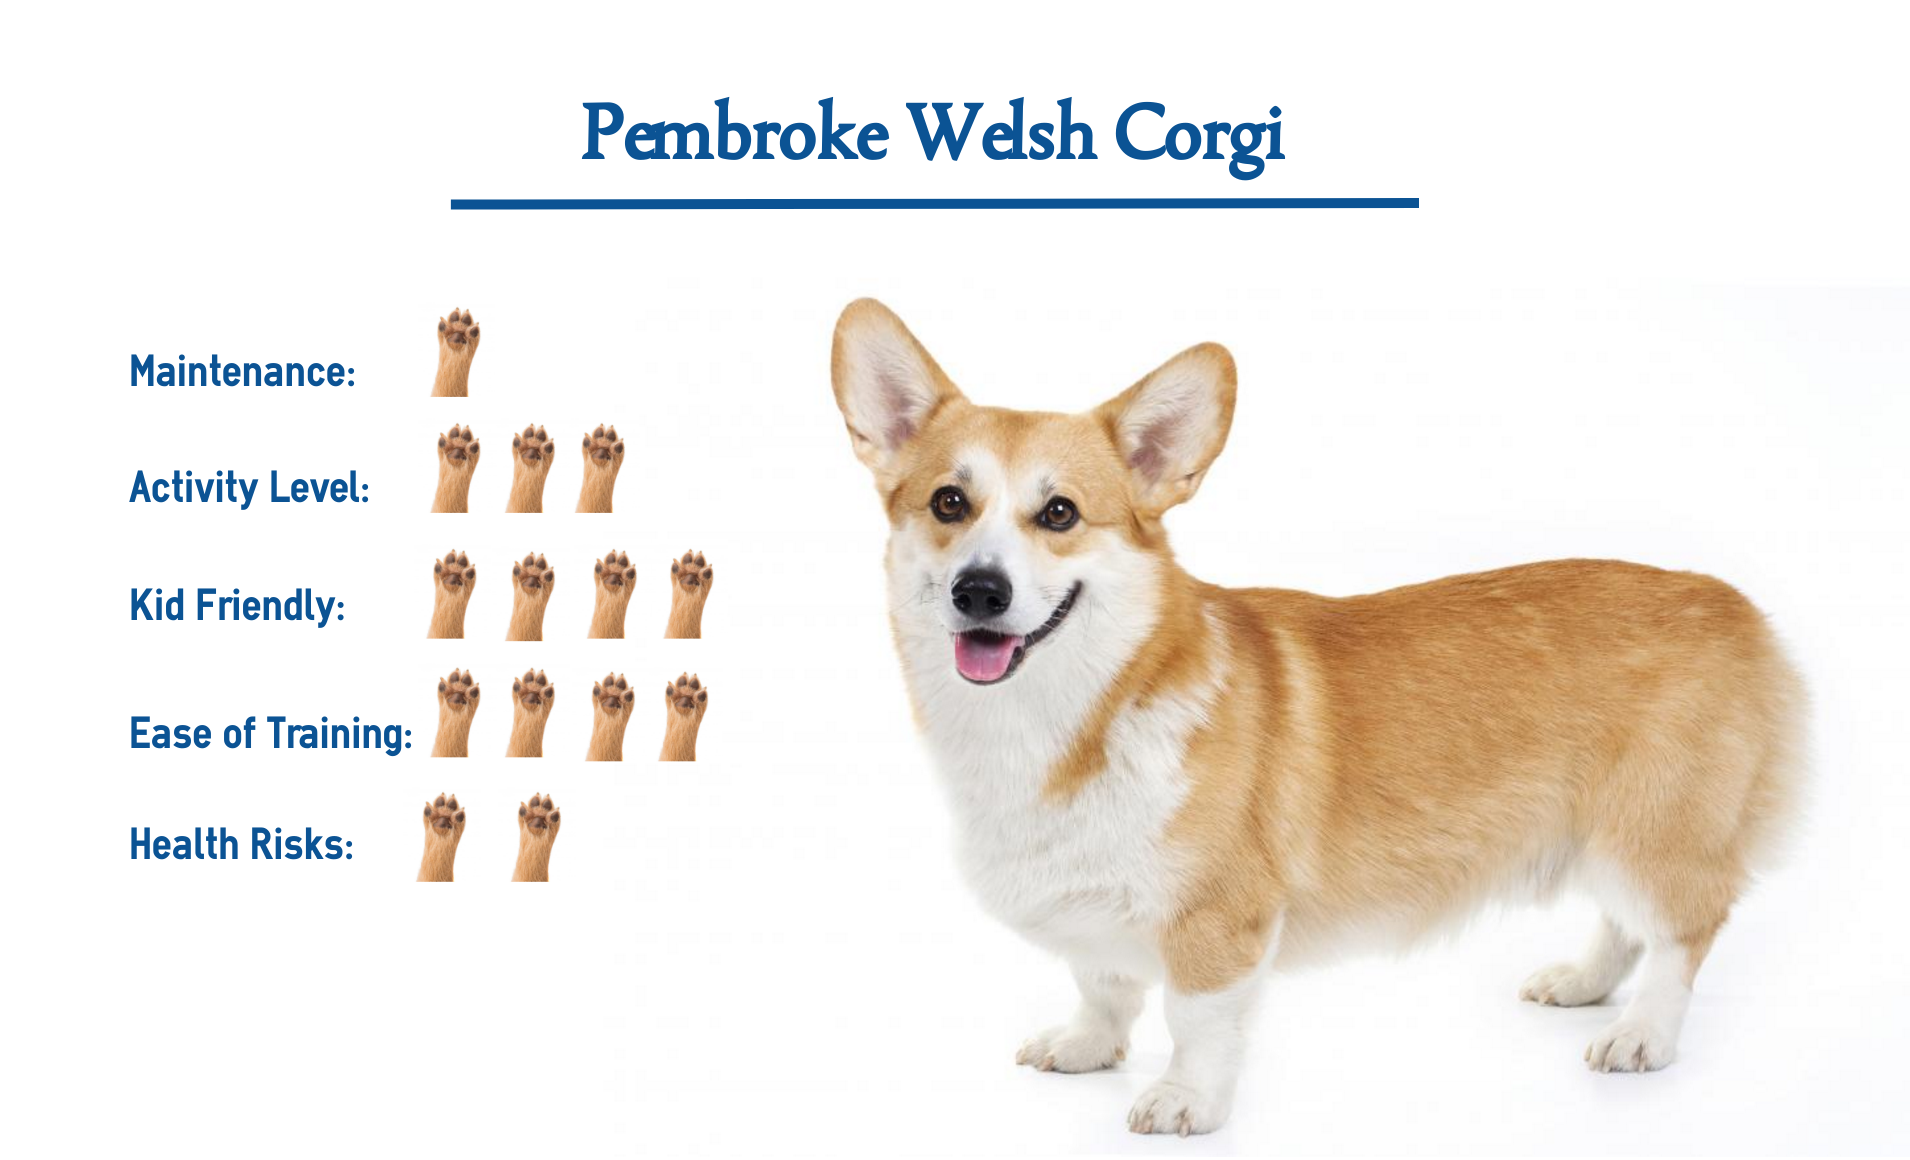corgi: (804, 289, 1831, 1134)
